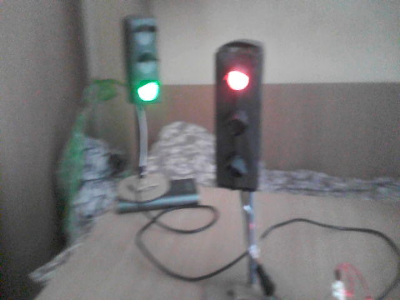trafficlight_green: (129, 22, 160, 102)
trafficlight_red: (215, 46, 258, 187)
